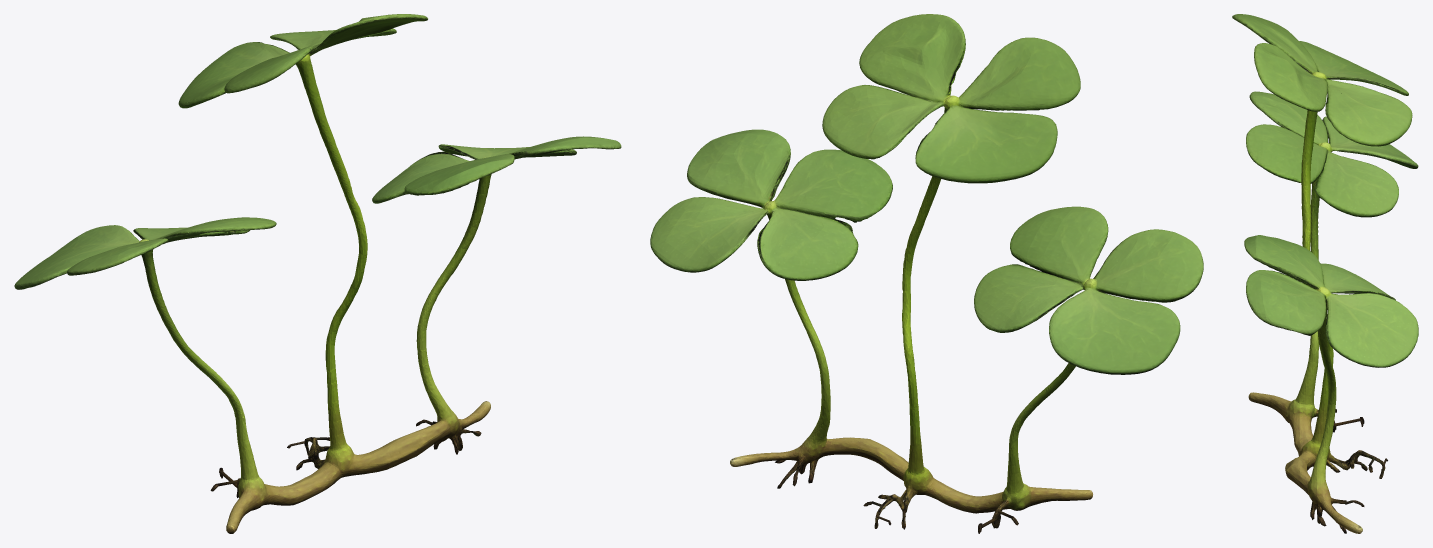
3 views of the same model, side by side, from view 1: azimuth 30°, elevation 25°; view 2: azimuth 150°, elevation 25°; view 3: azimuth 270°, elevation 25° (orthographic). The views are drawn at different scales.
Parts seen in each view (by area): view 1: world; view 2: world; view 3: world.
Boxes of the visible parts, box(x1,y1,x2,y2) form: world: box(14, 14, 621, 533); world: box(650, 14, 1203, 533); world: box(1232, 14, 1418, 533).
Size of the model in its own units: 0.14 by 0.1207 by 0.0472.
Materials: 2 (2 with a texture image).
